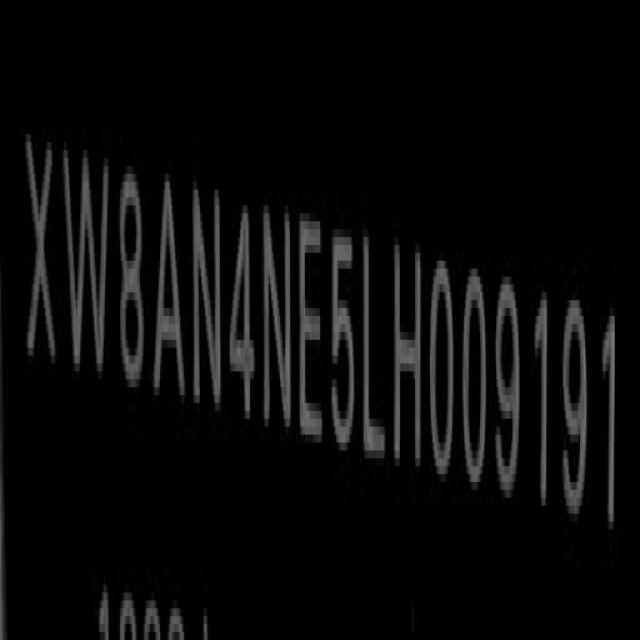0: (430, 247, 457, 490), (464, 261, 489, 495)
1: (603, 301, 619, 538), (534, 284, 550, 514)
4: (229, 194, 255, 436)
5: (331, 211, 356, 454)
8: (119, 157, 145, 397)
9: (562, 290, 590, 526), (495, 275, 523, 507)
A: (153, 166, 183, 415)
E: (300, 207, 326, 447)
H: (395, 232, 426, 482)
L: (364, 226, 387, 474)
N: (262, 205, 293, 445), (193, 176, 222, 426)
W: (62, 128, 112, 391)
X: (24, 123, 56, 384)
